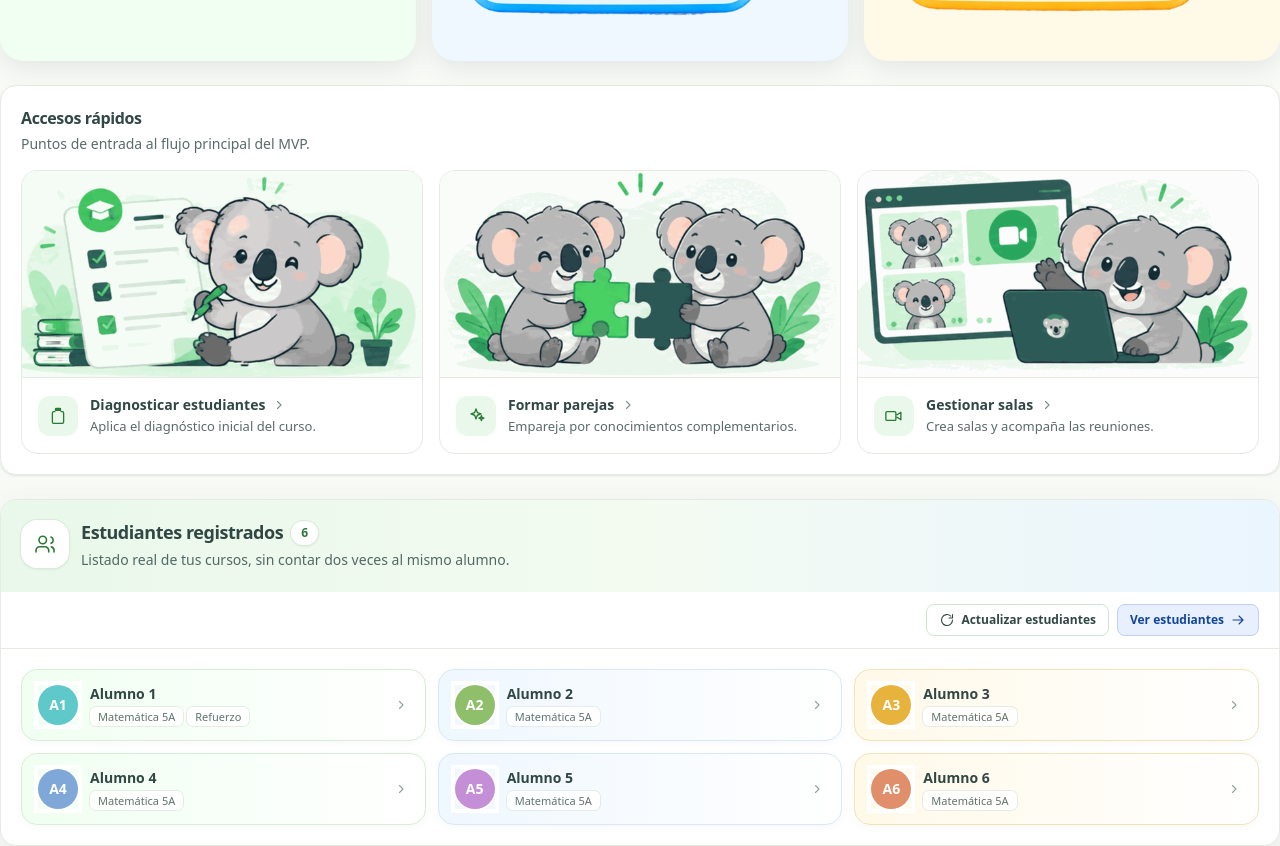
Test: TeacherDashboard con estudiantes reales › actualiza la cantidad cuando cambia el roster
(page scrolled)
Check: the text "Alumno 6" is shown, box [923,768,990,787]
Click the button "Actualizar estudiantes": (1018, 620) [926,604,1109,636]
(page scrolled)
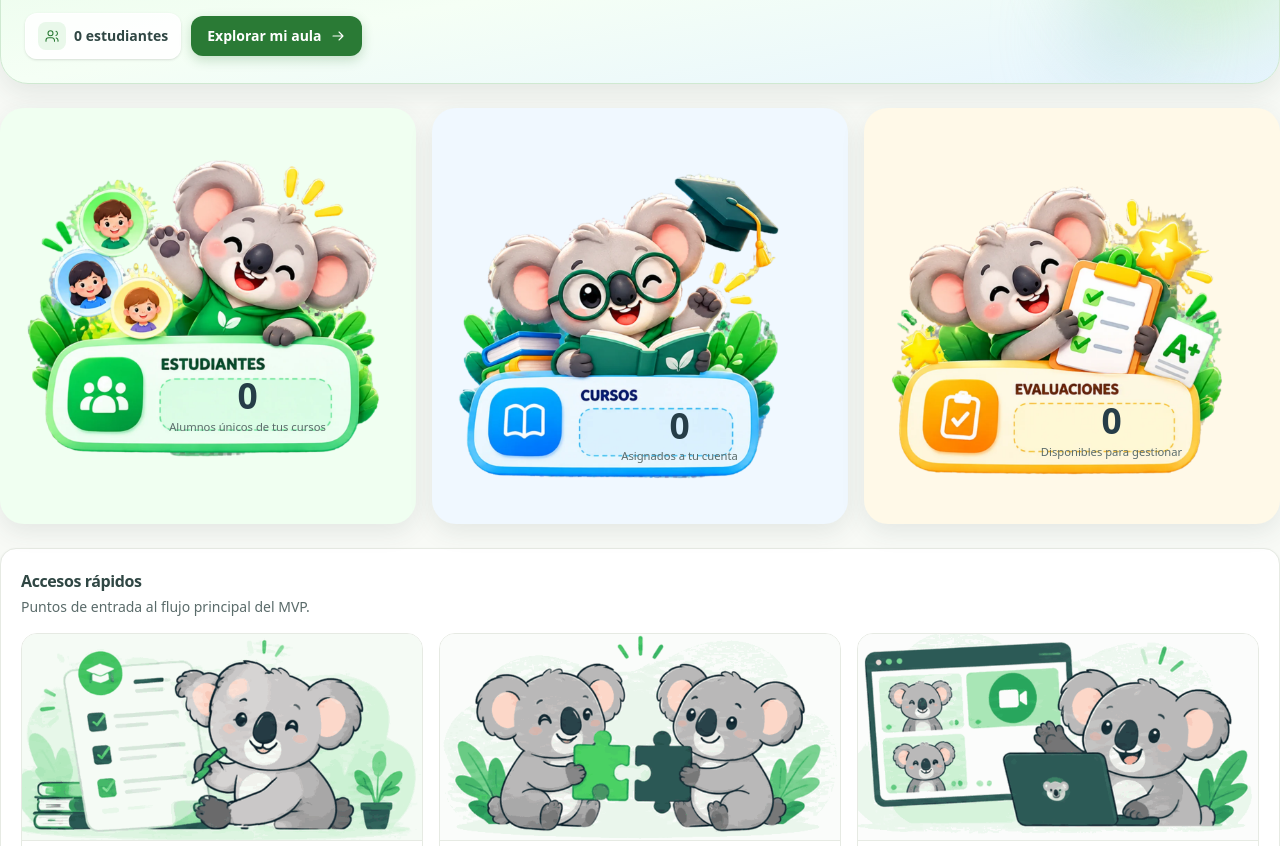
Check: the text named "Estudiantes" reads "0", box [237,371,258,419]
Check: the text "Alumno 6" is gone
